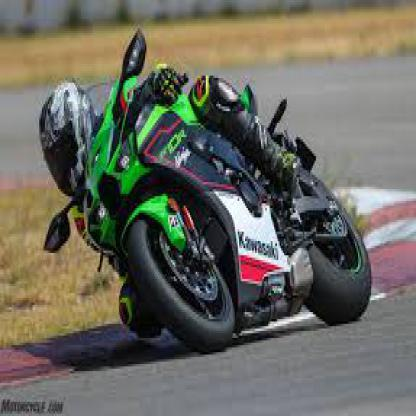Motorcycle: (95, 64, 379, 351)
